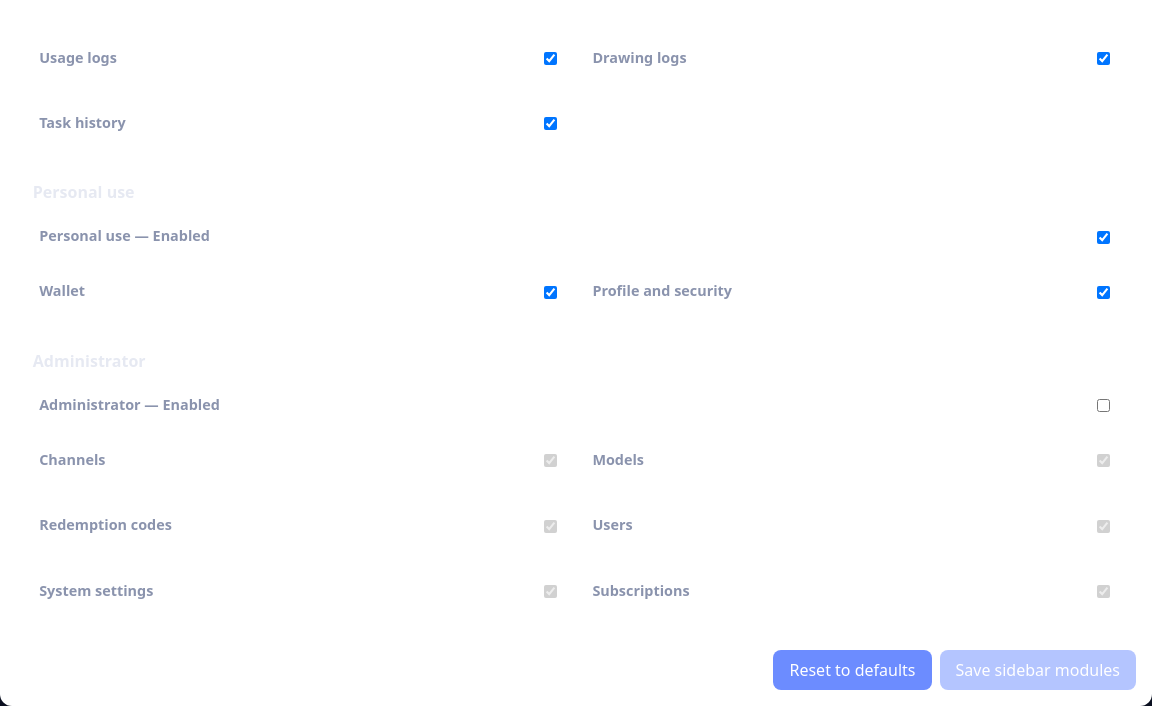
Scenario: SidebarModulesSettingsPanel › disables child controls when a section is hidden and can reset to open defaults
(page scrolled)
Expected: the checkbox labelled "Channels" is disabled, [544, 454, 557, 467]
Click the button "Reset to defaults" at (852, 670), box [774, 650, 932, 690]
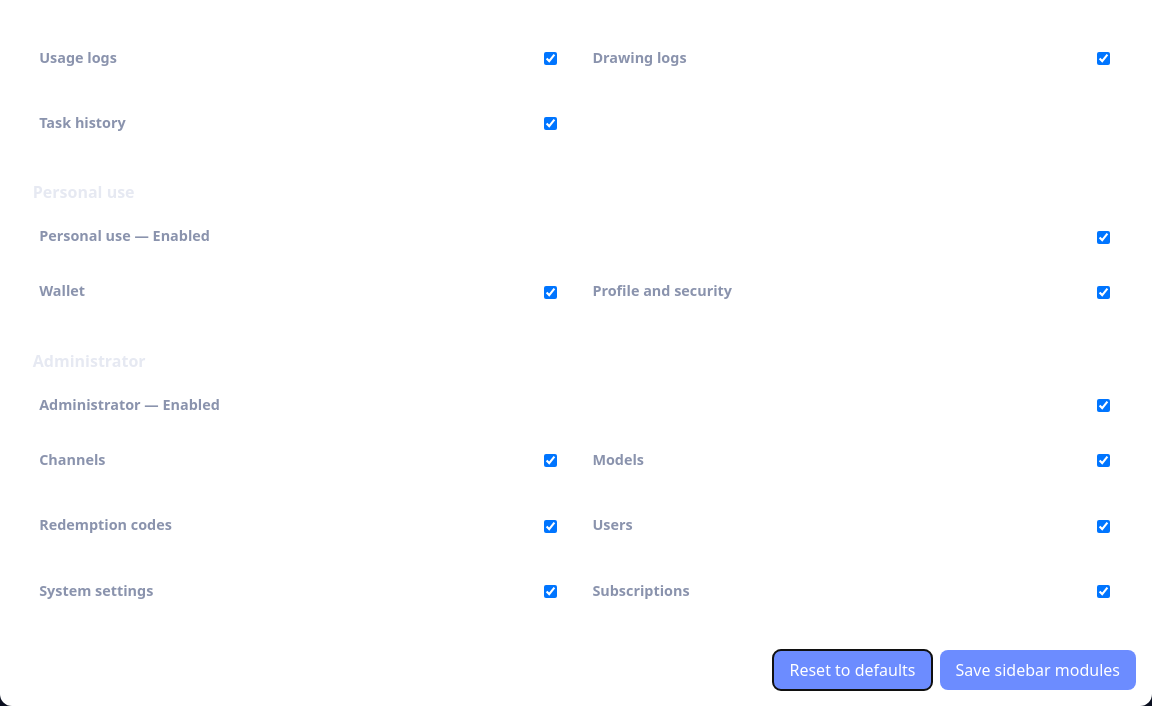
Result: the checkbox labelled "Administrator — Enabled" is checked at [1097, 399, 1110, 412]
Result: the checkbox labelled "Channels" is enabled at [544, 454, 557, 467]
